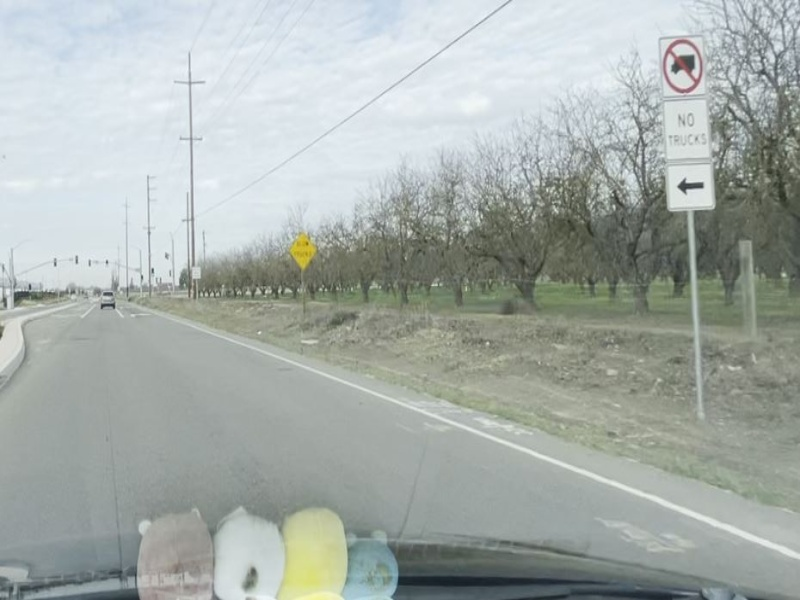no truck sign 1: (656, 35, 709, 100)
no truck sign 2: (661, 97, 713, 163)
slow truck sign: (286, 233, 319, 272)
